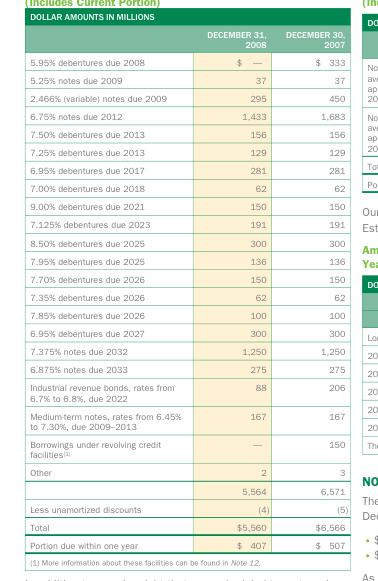table: (29, 28, 347, 550)
table column: (29, 28, 193, 550), (193, 28, 276, 550), (276, 28, 347, 550)
table column header: (29, 28, 347, 52)
table row: (29, 406, 347, 435), (29, 378, 347, 406), (29, 435, 347, 463), (29, 28, 347, 52), (29, 124, 347, 143), (29, 341, 347, 360), (29, 52, 347, 70), (29, 70, 347, 88), (29, 88, 347, 106), (29, 106, 347, 124), (29, 143, 347, 161), (29, 161, 347, 179), (29, 179, 347, 197), (29, 197, 347, 215), (29, 215, 347, 233), (29, 233, 347, 251), (29, 251, 347, 269), (29, 269, 347, 287), (29, 287, 347, 305), (29, 305, 347, 323), (29, 323, 347, 341), (29, 360, 347, 378), (29, 463, 347, 481), (29, 481, 347, 499), (29, 499, 347, 517), (29, 517, 347, 535), (29, 535, 347, 550)
